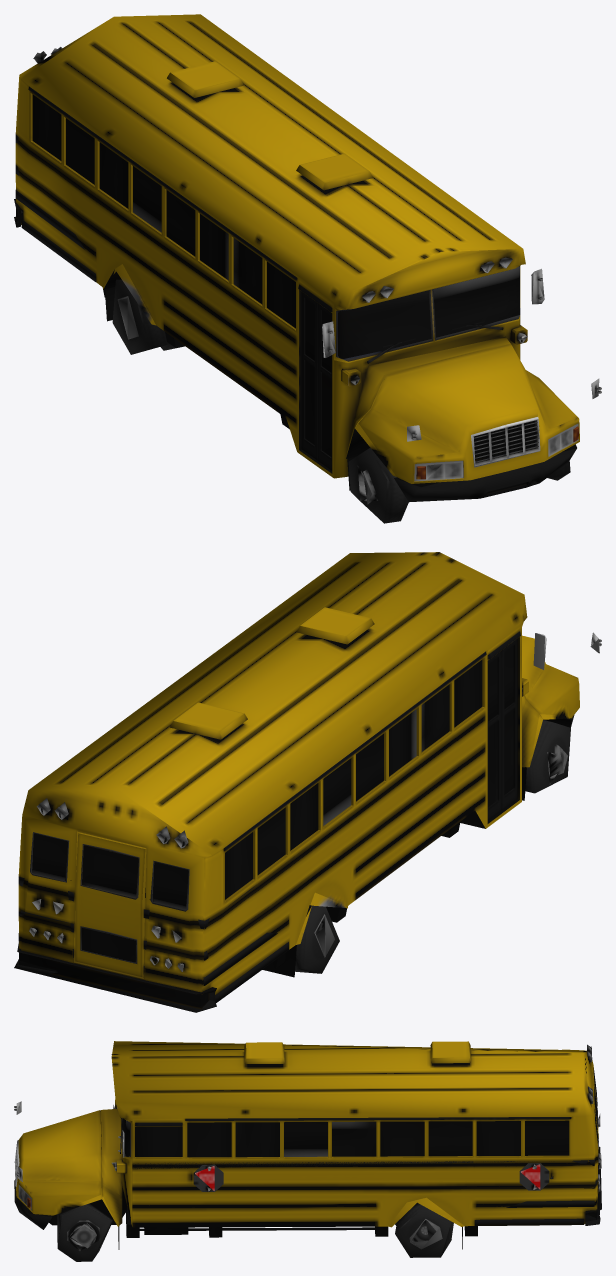
The model's file is svc_school_bus.glb.
The picture shows the model from 3 angles, top to bottom: view 1: azimuth 30°, elevation 25°; view 2: azimuth 150°, elevation 25°; view 3: azimuth 270°, elevation 25°; orthographic projection. The views are drawn at different scales.
Visible parts, largest first — view 1: svc_school_bus; view 2: svc_school_bus; view 3: svc_school_bus.
Boxes of the visible parts, left/top/right/bottom form: svc_school_bus: left=14, top=14, right=601, bottom=523; svc_school_bus: left=14, top=552, right=601, bottom=1012; svc_school_bus: left=14, top=1041, right=601, bottom=1261.
Size of the model in its own units: 3.06 by 3.17 by 9.49.
1 material, 1 textured.
